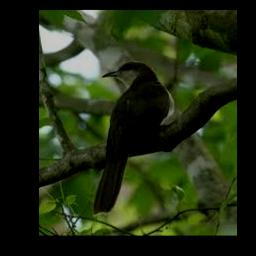Cuckoo: (93, 61, 175, 215)
